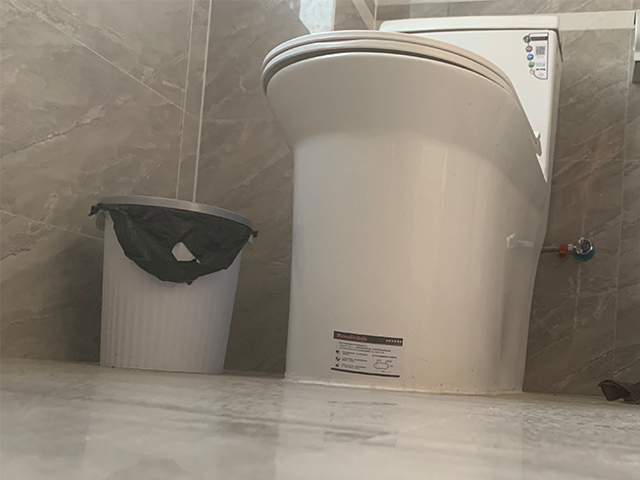closestool: (260, 14, 564, 396)
trashcan: (97, 194, 253, 374)
